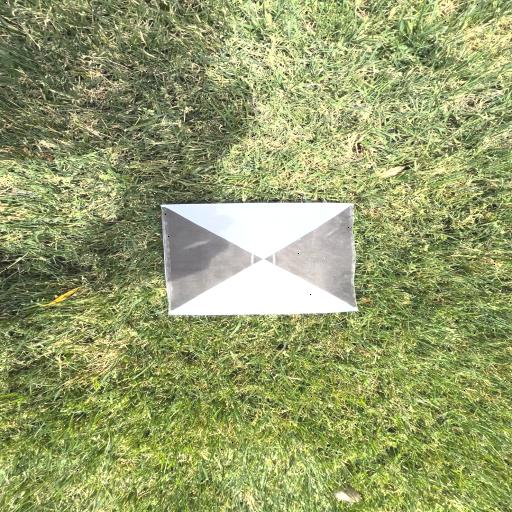target: (161, 205, 358, 310)
